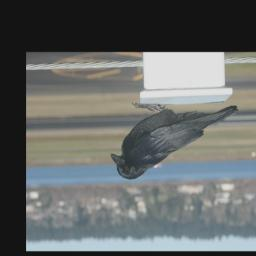Crow: (110, 103, 240, 181)
